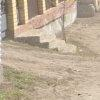stairs: (19, 28, 83, 69)
